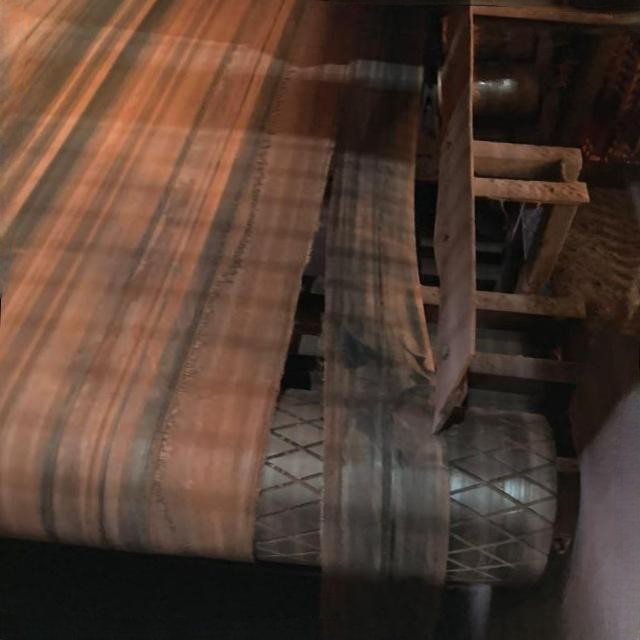Tear: (238, 84, 352, 564)
